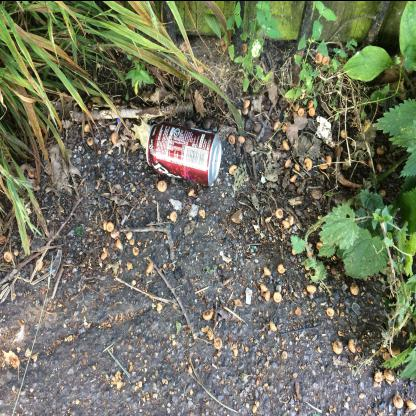metal: (146, 121, 222, 186)
